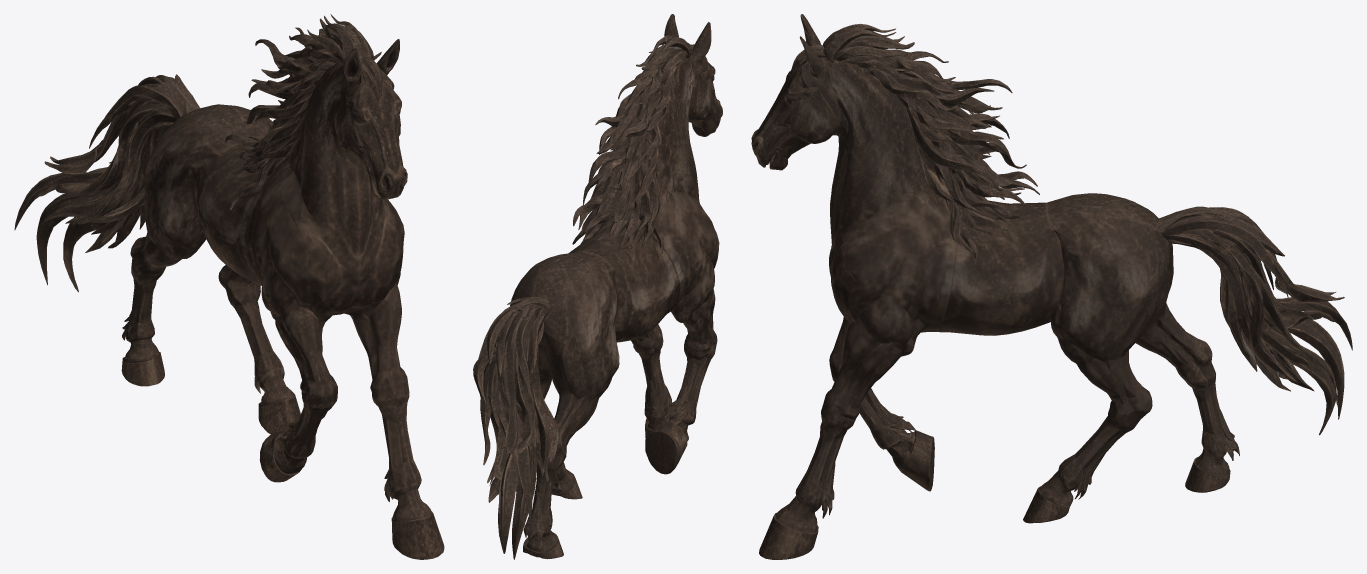
File: Meshy_AI_Ironclad_Stallion_1028175902_texture.glb
3 views of the same model, side by side, from view 1: azimuth 30°, elevation 25°; view 2: azimuth 150°, elevation 25°; view 3: azimuth 270°, elevation 25° (orthographic). The views are drawn at different scales.
Visible parts, largest first — view 1: output_unwrapped; view 2: output_unwrapped; view 3: output_unwrapped.
Part boxes in pixels (bbox=[...]): output_unwrapped: bbox=[14, 14, 444, 559]; output_unwrapped: bbox=[473, 14, 722, 559]; output_unwrapped: bbox=[751, 14, 1352, 559].
Size of the model in its own units: 0.545 by 1.78 by 1.9.
Materials: 1 (1 with a texture image).
